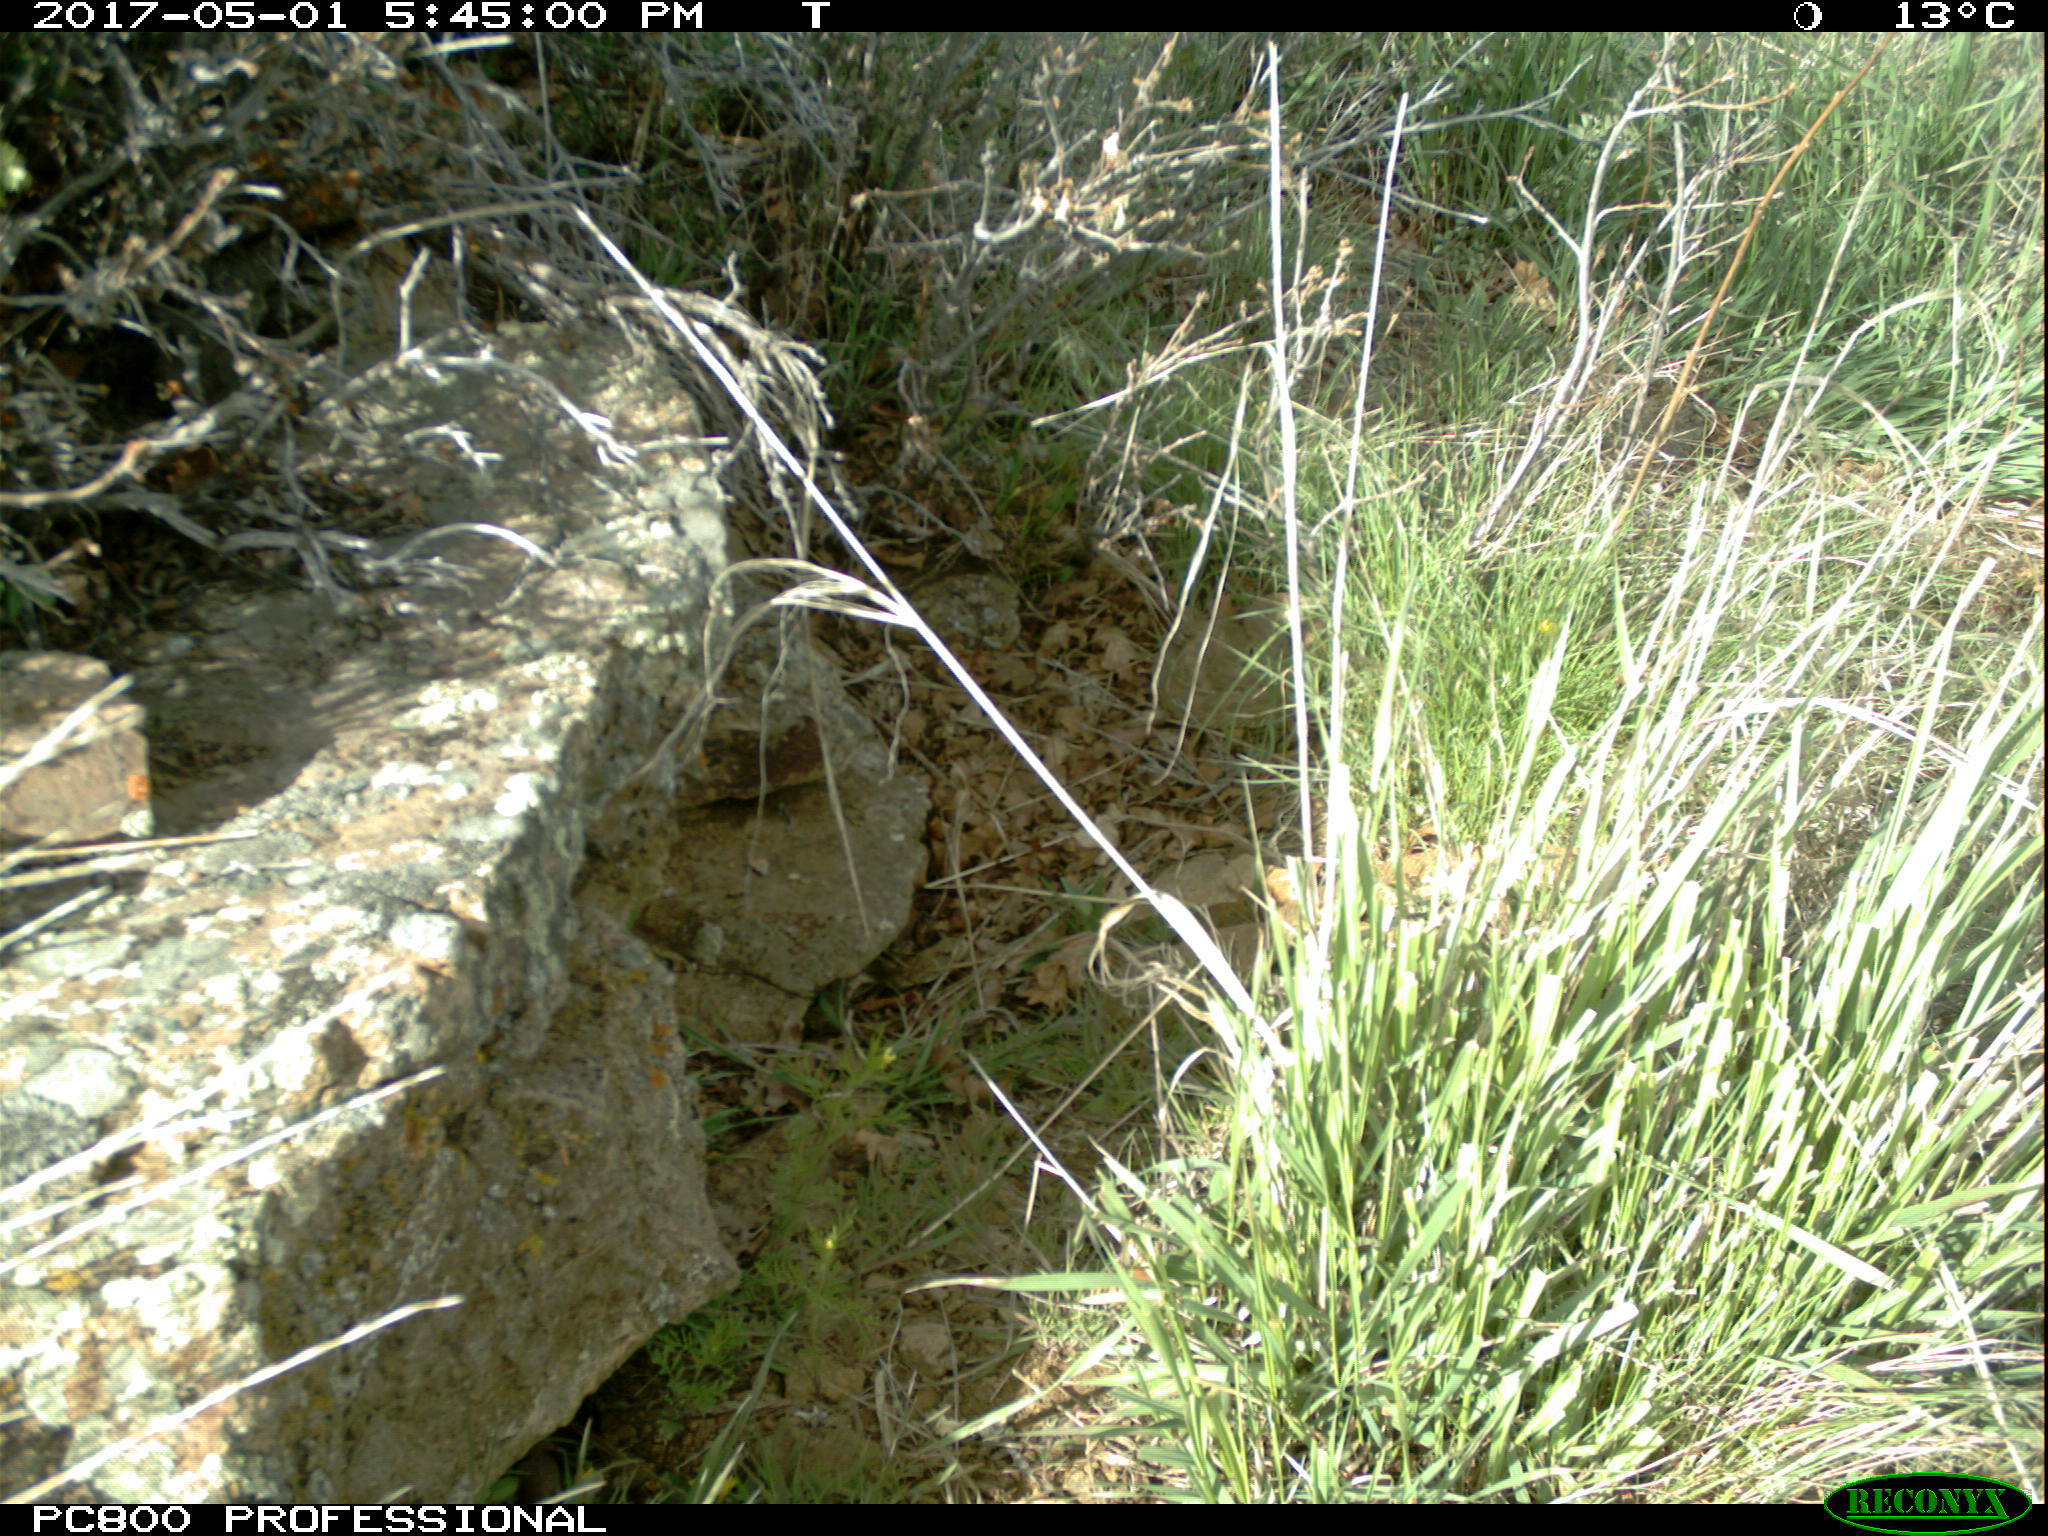snake: (1159, 611, 1321, 733)
